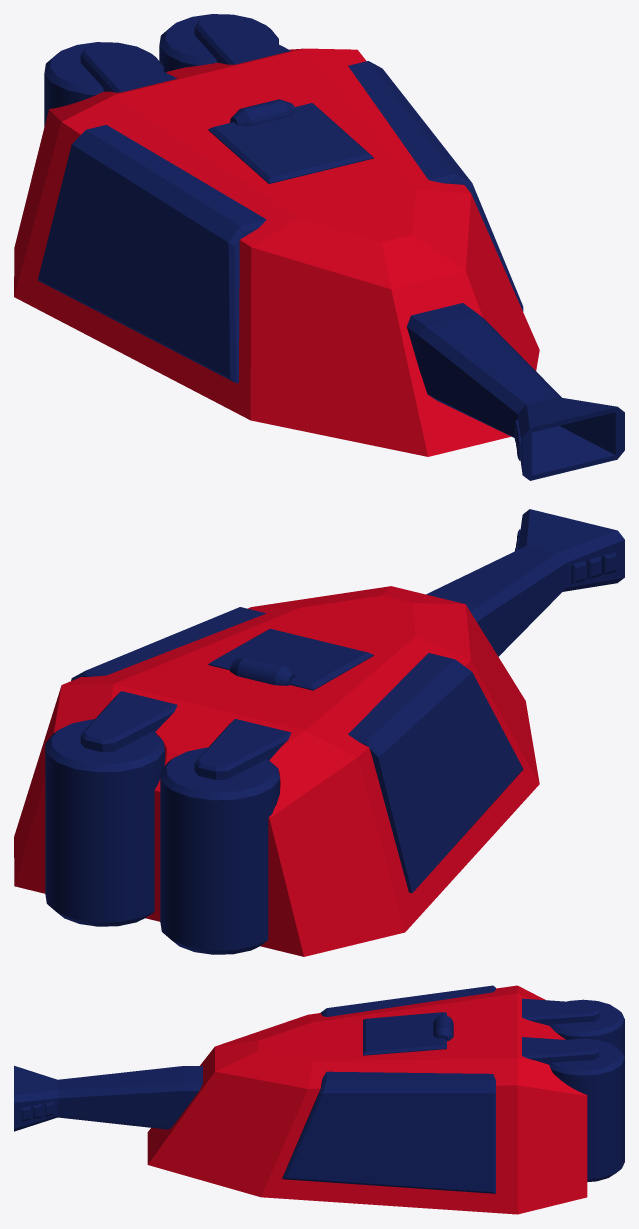
File: Acidton.fbx
3 views of the same model, one above another, from view 1: azimuth 30°, elevation 25°; view 2: azimuth 150°, elevation 25°; view 3: azimuth 270°, elevation 25° (orthographic). The views are drawn at different scales.
Visible parts, largest first — view 1: Body1, Parts; view 2: Parts, Body1; view 3: Body1, Parts.
Part boxes in pixels (x1,y1,x2,y2): Body1: (14, 48, 539, 456); Parts: (38, 14, 624, 480); Parts: (45, 509, 624, 954); Body1: (14, 586, 539, 956); Body1: (147, 985, 587, 1214); Parts: (14, 985, 624, 1193).
Bounding box in the file's own units: 206 × 92.6 × 404.
